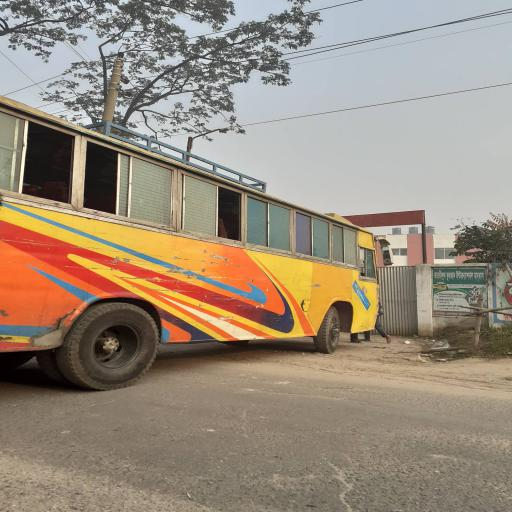bus: (1, 99, 381, 370)
